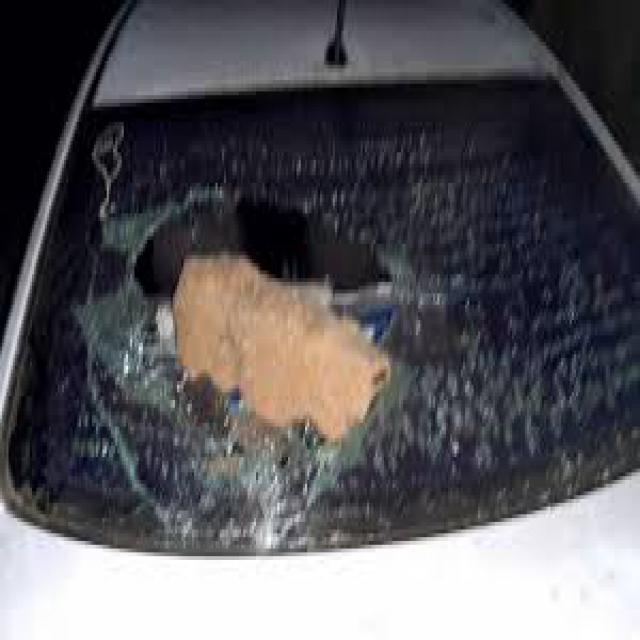Rear-windscreen-Damage: (9, 61, 632, 579)
